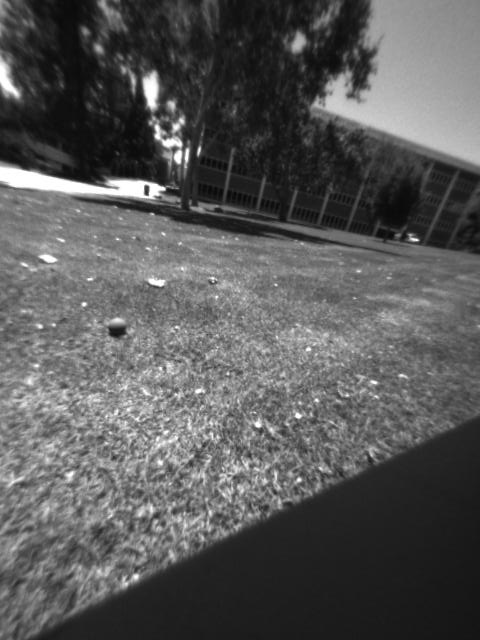dogtoy: (98, 311, 138, 345)
